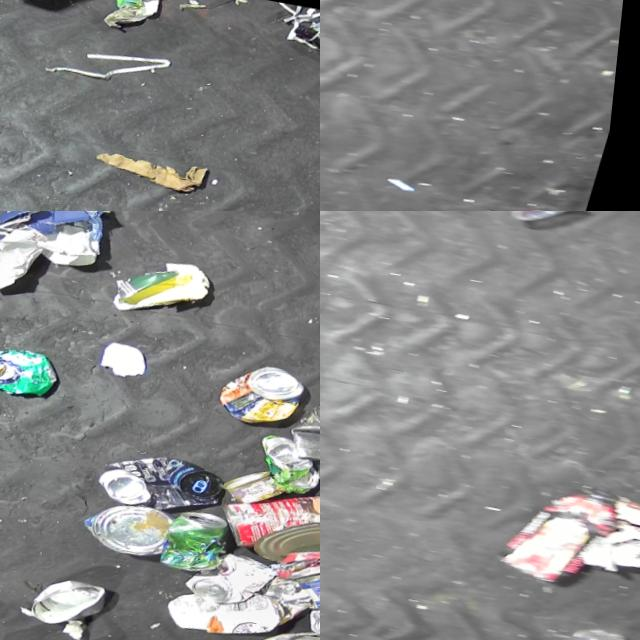can: (98, 445, 237, 524), (218, 478, 320, 567), (216, 359, 314, 433), (189, 546, 291, 613), (84, 496, 183, 562), (165, 506, 244, 576), (32, 573, 119, 633), (258, 509, 320, 580), (253, 433, 320, 498), (0, 337, 68, 401), (225, 464, 296, 511), (287, 395, 320, 478)
